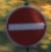No entry: (6, 6, 46, 47)
